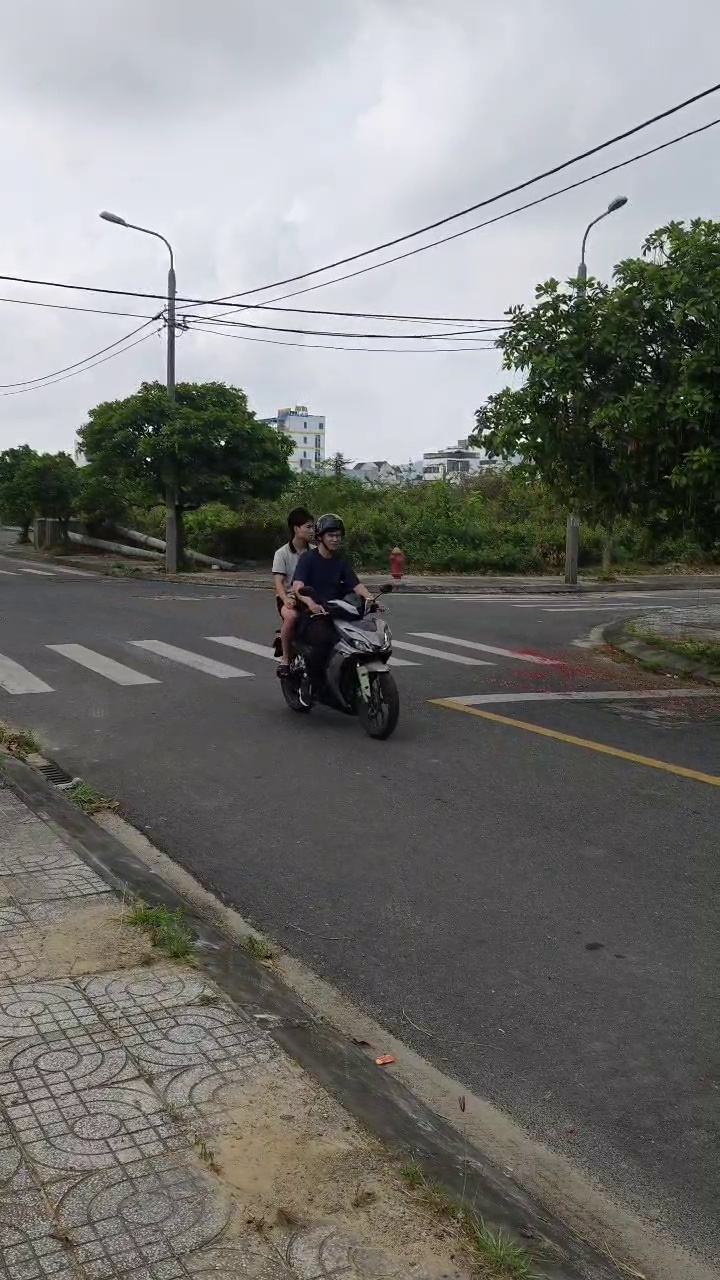helmet: (317, 514, 345, 564)
no_helmet: (287, 506, 315, 554)
